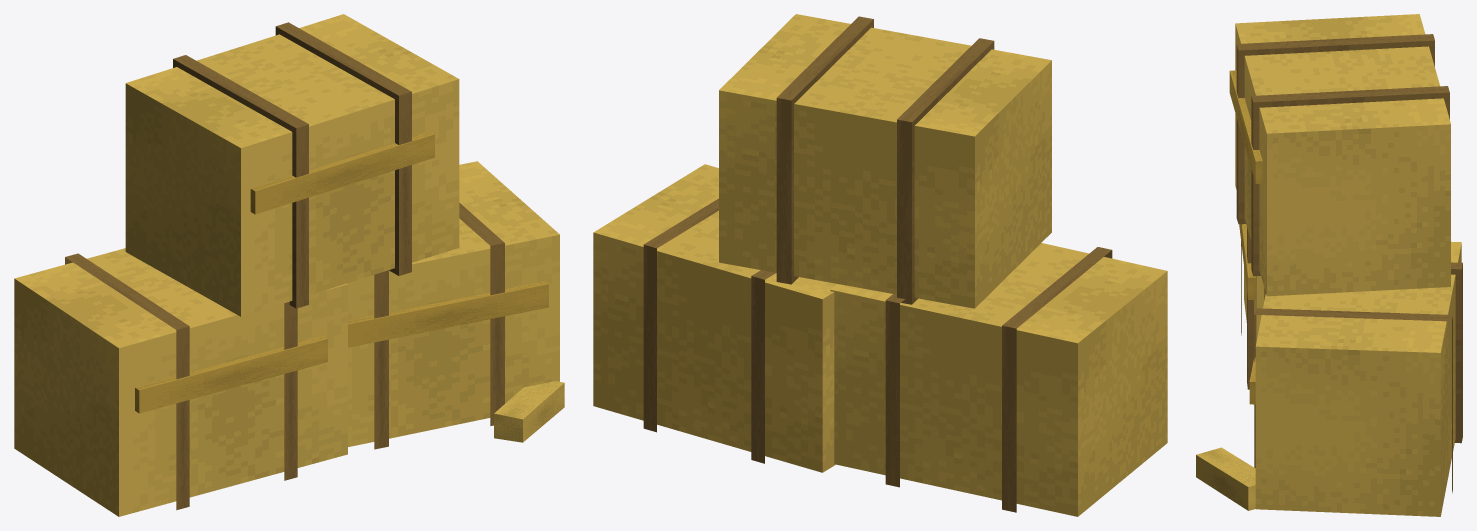
The model's file is prop_hay_bale.glb.
3 views of the same model, side by side, from view 1: azimuth 30°, elevation 25°; view 2: azimuth 150°, elevation 25°; view 3: azimuth 270°, elevation 25° (orthographic). The views are drawn at different scales.
Parts seen in each view (by area): view 1: prop_hay_bale; view 2: prop_hay_bale; view 3: prop_hay_bale.
Part boxes in pixels (x1,y1,x2,y2): prop_hay_bale: (14,14,564,516); prop_hay_bale: (593,14,1167,516); prop_hay_bale: (1196,14,1462,516).
Bounding box in the file's own units: 1.69 × 1.22 × 0.8629.
1 material, 1 textured.
